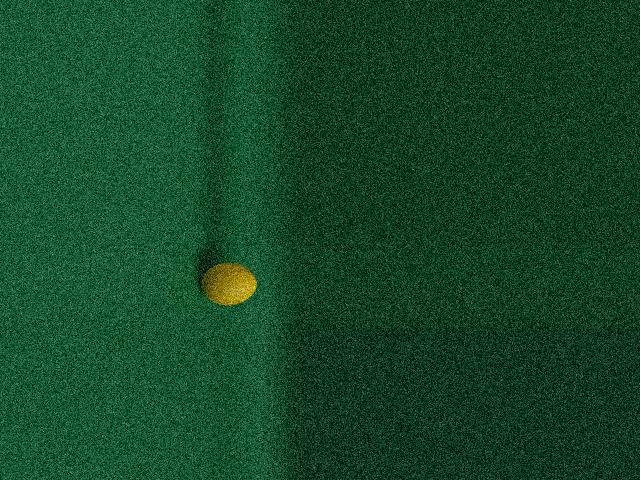egg: (200, 264, 257, 306)
